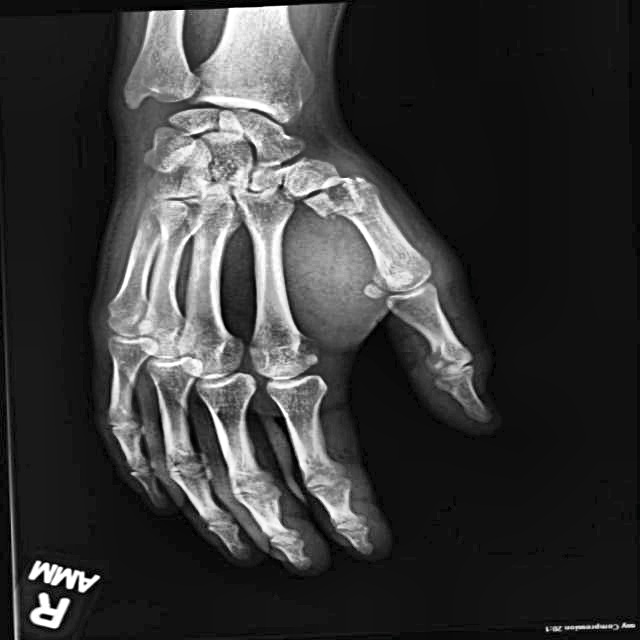Comminuted: (293, 166, 380, 228)
